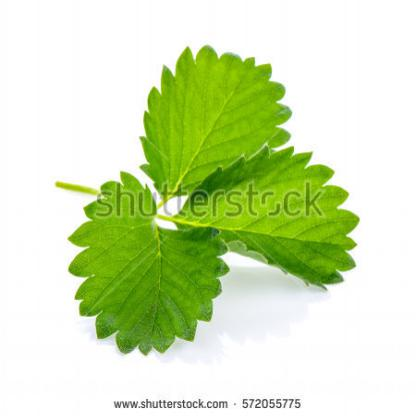Strawberry leaf: (60, 156, 228, 360), (180, 150, 378, 295), (137, 33, 301, 207)
